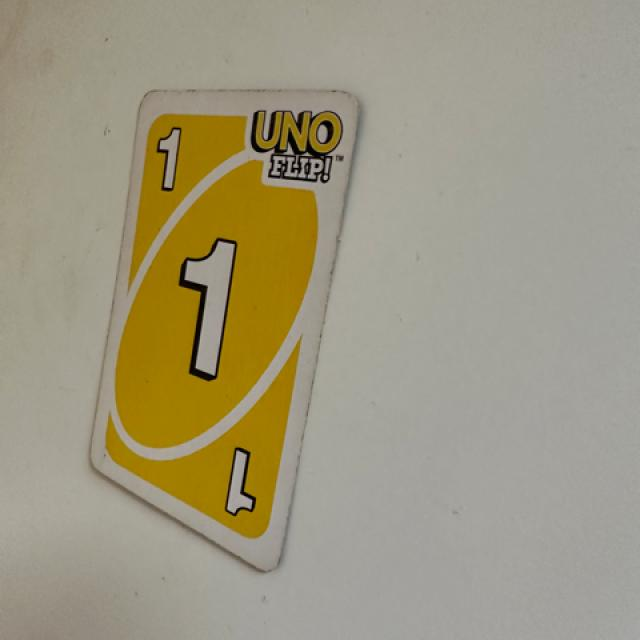lyellow-1: (142, 110, 206, 206)
